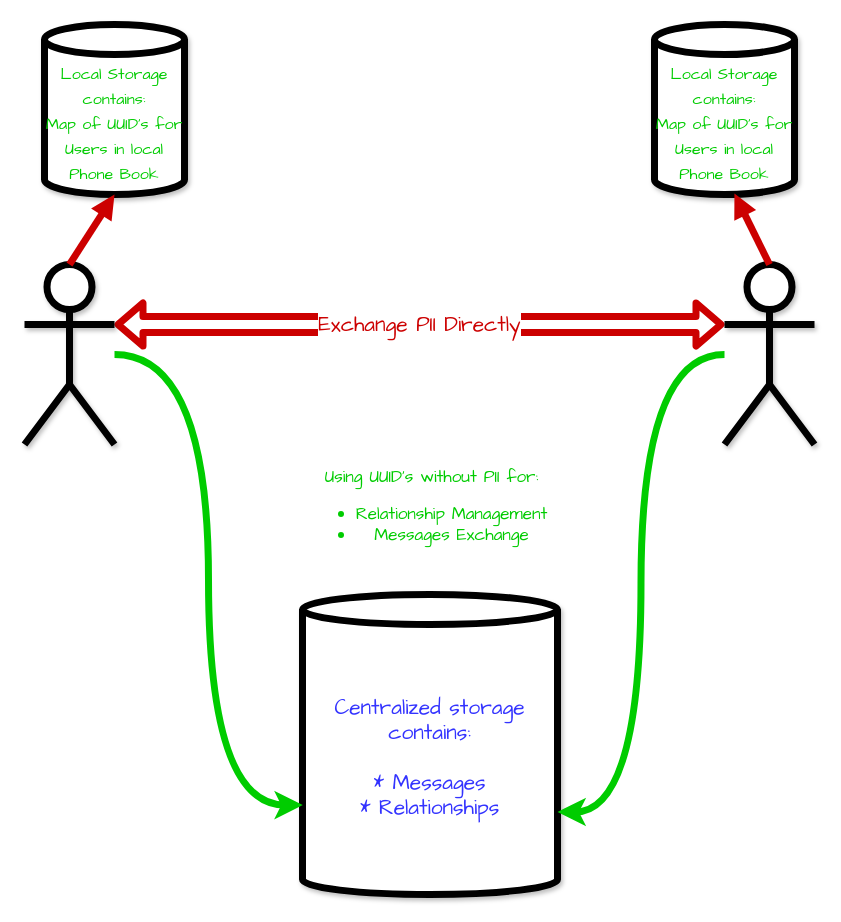
The diagram is 841 pixels wide and 922 high, and some of its shapes have lost their labels. The shapes that lost their labels are listed below. From the top down, each one's centre as x and y in pixels, then its label:
the point at 70,355: User A
the point at 770,355: User B
